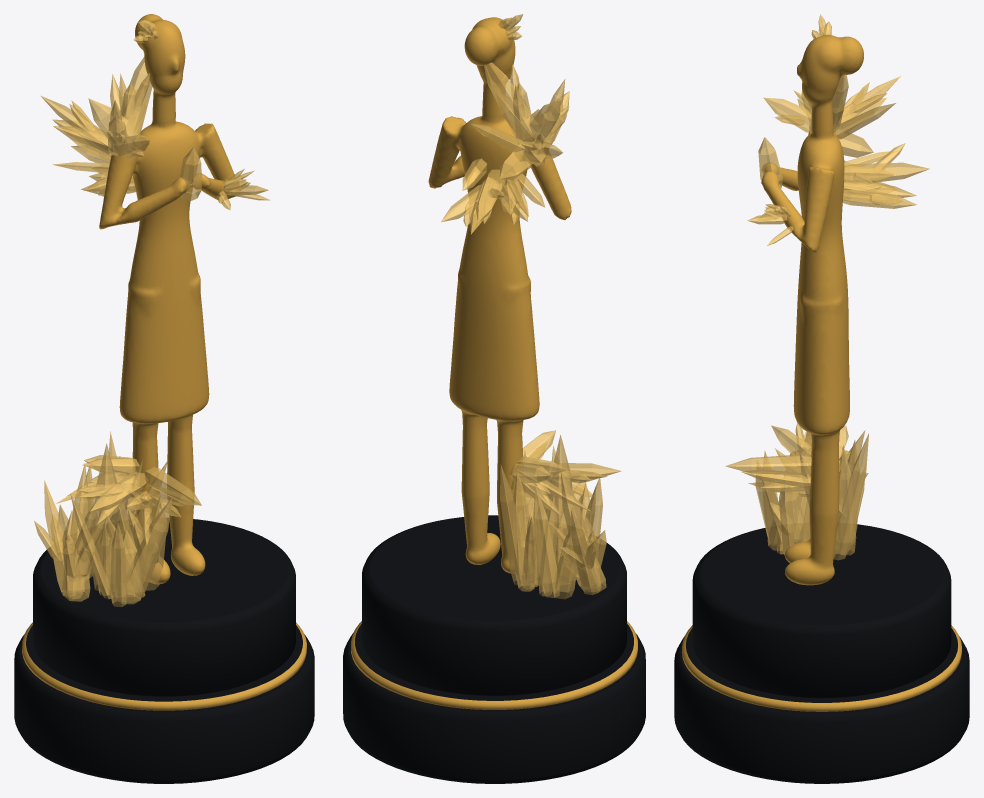
Rendered from avatar_lady_pose.glb.
3 renders of one model, left to right at view 1: azimuth 30°, elevation 25°; view 2: azimuth 150°, elevation 25°; view 3: azimuth 270°, elevation 25°, orthographic. The views are drawn at different scales.
Parts seen in each view (by area): view 1: Pedestal, Lady sculpt, Six dense crystal colonies, Held heart crystal; view 2: Pedestal, Lady sculpt, Six dense crystal colonies; view 3: Pedestal, Lady sculpt, Six dense crystal colonies, Held heart crystal.
Part boxes in pixels (bbox=[...]): Pedestal: bbox=[14, 518, 314, 783]; Lady sculpt: bbox=[99, 14, 235, 584]; Six dense crystal colonies: bbox=[34, 20, 270, 606]; Held heart crystal: bbox=[180, 147, 201, 200]; Pedestal: bbox=[343, 515, 645, 783]; Lady sculpt: bbox=[428, 17, 571, 573]; Six dense crystal colonies: bbox=[441, 14, 621, 599]; Pedestal: bbox=[674, 524, 969, 783]; Lady sculpt: bbox=[761, 35, 863, 585]; Six dense crystal colonies: bbox=[725, 14, 929, 560]; Held heart crystal: bbox=[758, 137, 782, 188].
Size of the model in its own units: 0.3833 by 1 by 0.3833.
